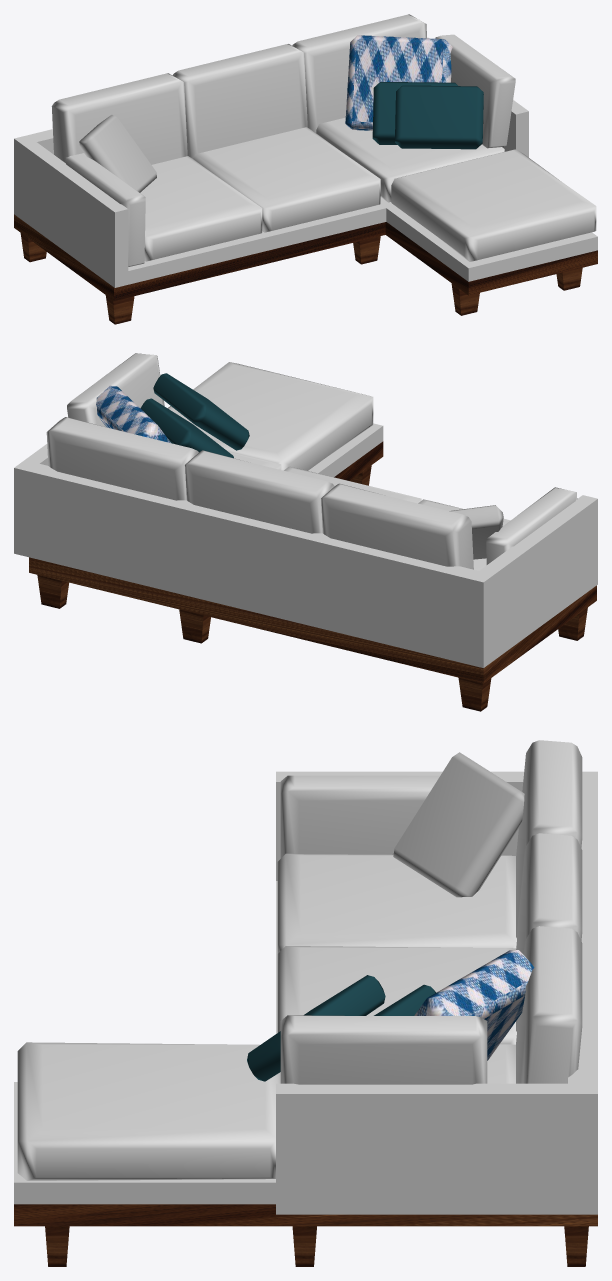
File: Sofa 2.fbx
3 renders of one model, top to bottom at view 1: azimuth 30°, elevation 25°; view 2: azimuth 150°, elevation 25°; view 3: azimuth 270°, elevation 25°, orthographic. The views are drawn at different scales.
Visible parts, largest first — view 1: Sofa_3; view 2: Sofa_3; view 3: Sofa_3.
Part boxes in pixels (x1=…): Sofa_3: x1=14, y1=14, x2=597, y2=324; Sofa_3: x1=14, y1=353, x2=597, y2=711; Sofa_3: x1=14, y1=740, x2=597, y2=1266.
Size of the model in its own units: 247 by 92.34 by 189.
